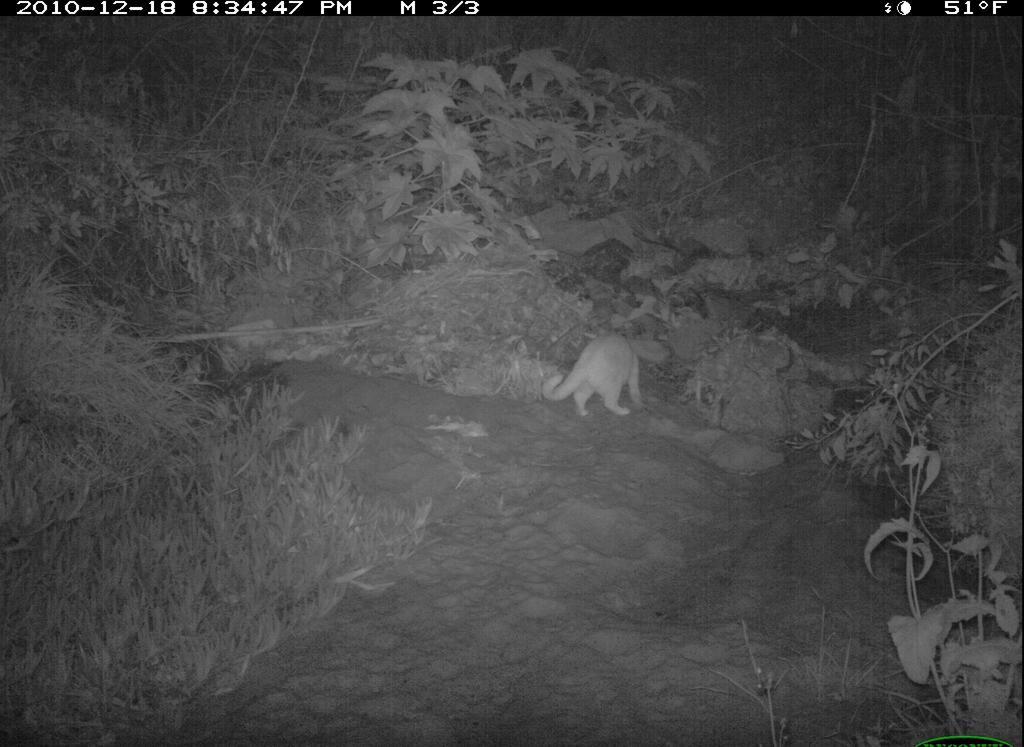cat: (536, 319, 651, 432)
